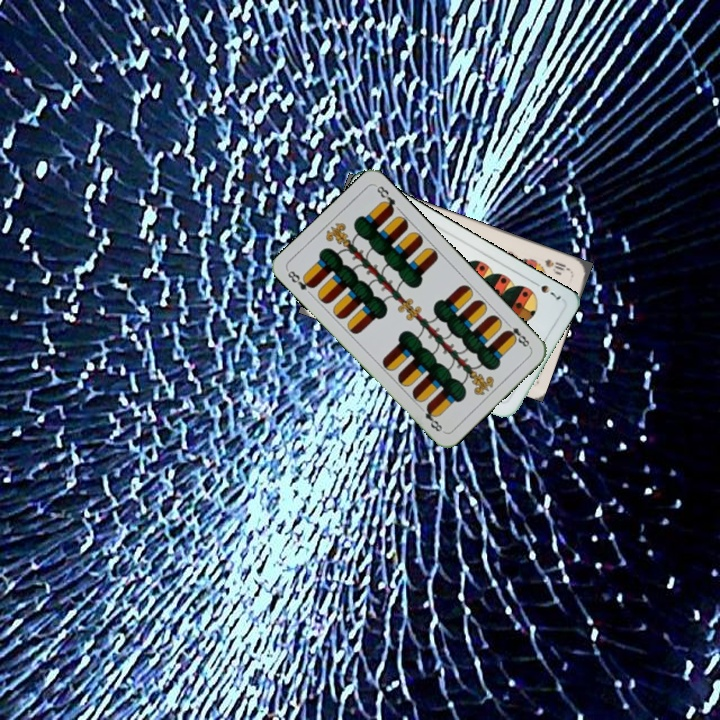E8: (501, 318, 533, 351), (283, 266, 317, 292)
S10: (540, 255, 573, 276)
S7: (528, 277, 563, 303)
